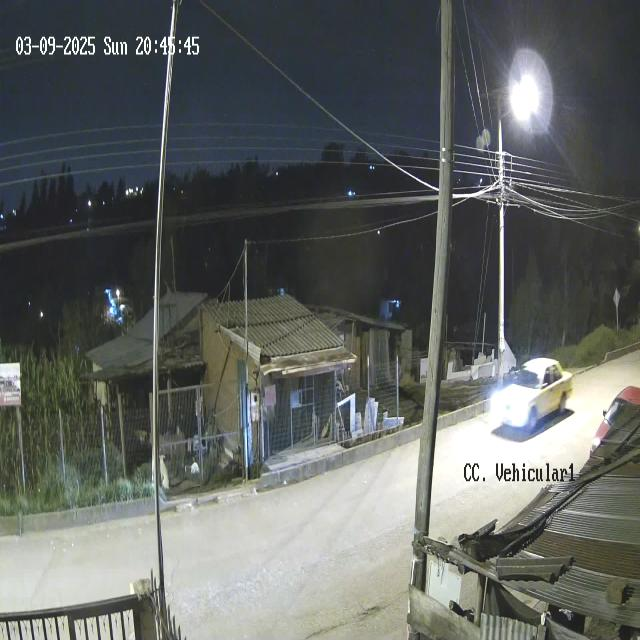SED: (492, 356, 574, 434)
